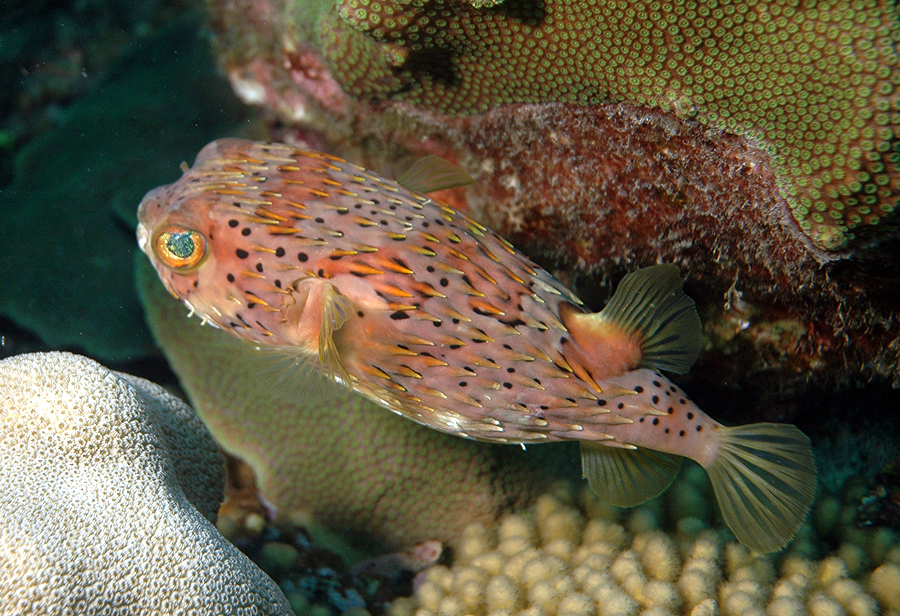Diodon_holocanthus: (117, 121, 833, 563)
